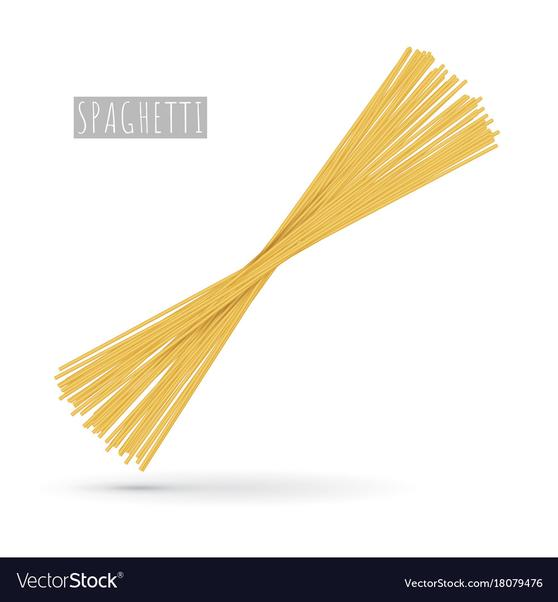spaghetti: (59, 45, 506, 478)
